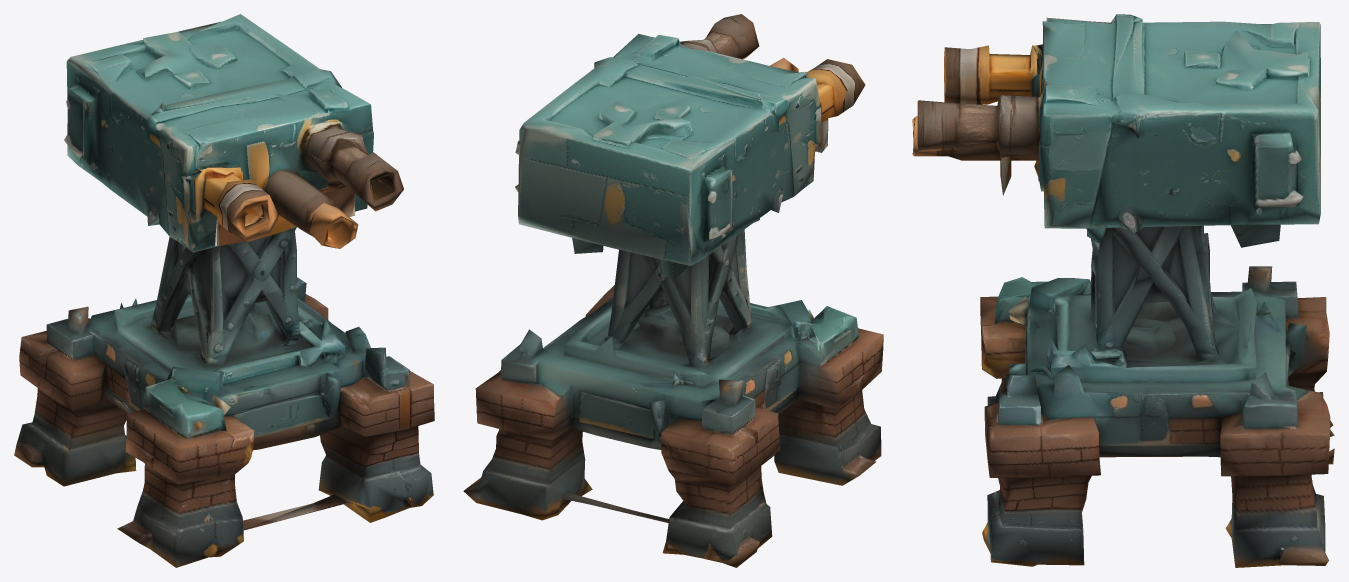
Rendered from utility_builder_turret_3000.glb.
3 renders of one model, left to right at view 1: azimuth 30°, elevation 25°; view 2: azimuth 150°, elevation 25°; view 3: azimuth 270°, elevation 25°, orthographic. The views are drawn at different scales.
Visible parts, largest first — view 1: tripo_node_c1948038-0951-4e51-9e5c-1e5fa4c0cb7e; view 2: tripo_node_c1948038-0951-4e51-9e5c-1e5fa4c0cb7e; view 3: tripo_node_c1948038-0951-4e51-9e5c-1e5fa4c0cb7e.
Part boxes in pixels (<box>): tripo_node_c1948038-0951-4e51-9e5c-1e5fa4c0cb7e: <box>14,14,434,567</box>; tripo_node_c1948038-0951-4e51-9e5c-1e5fa4c0cb7e: <box>463,14,883,567</box>; tripo_node_c1948038-0951-4e51-9e5c-1e5fa4c0cb7e: <box>912,14,1334,567</box>.
Size of the model in its own units: 0.7323 by 0.9768 by 0.8382.
1 material, 1 textured.
